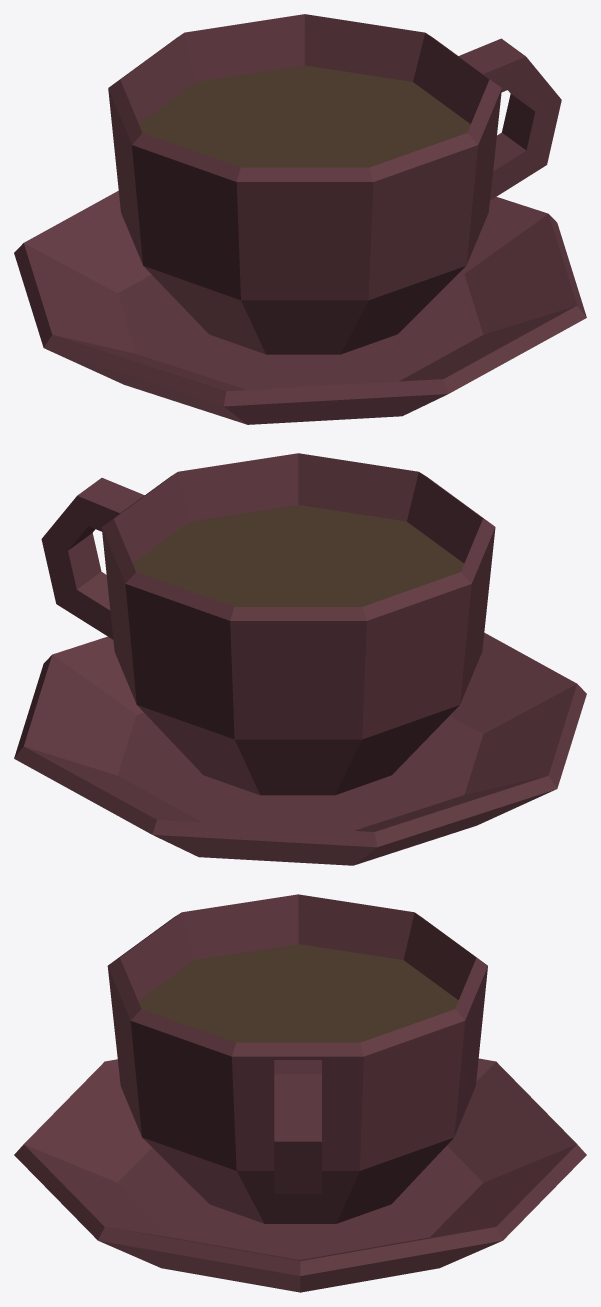
The model's file is coffee-cup.fbx.
The picture shows the model from 3 angles, top to bottom: view 1: azimuth 30°, elevation 25°; view 2: azimuth 150°, elevation 25°; view 3: azimuth 270°, elevation 25°; orthographic projection. The views are drawn at different scales.
Parts seen in each view (by area): view 1: coffee-cup; view 2: coffee-cup; view 3: coffee-cup.
Part boxes in pixels (x1,y1,x2,y2): coffee-cup: (14, 14, 586, 424); coffee-cup: (14, 453, 586, 865); coffee-cup: (14, 894, 586, 1292).
Bounding box in the file's own units: 0.178 × 0.0823 × 0.178.
